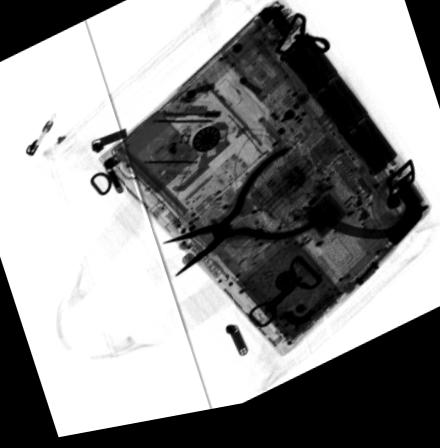Pliers: (160, 156, 330, 284)
